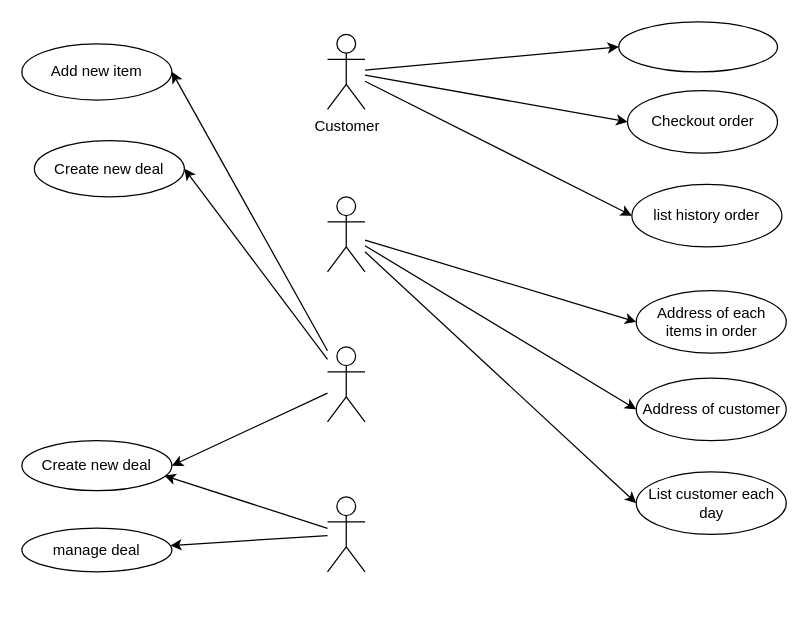
Image size: 809x620. Some labels were removed from this diagram. The box of each missing label's shape, as (x1, y1, x2, y2) in pixels:
Add items to order: (618, 21, 778, 72)
Marketer: (326, 496, 365, 572)
Saler: (326, 346, 365, 422)
Shiper: (326, 196, 365, 272)
